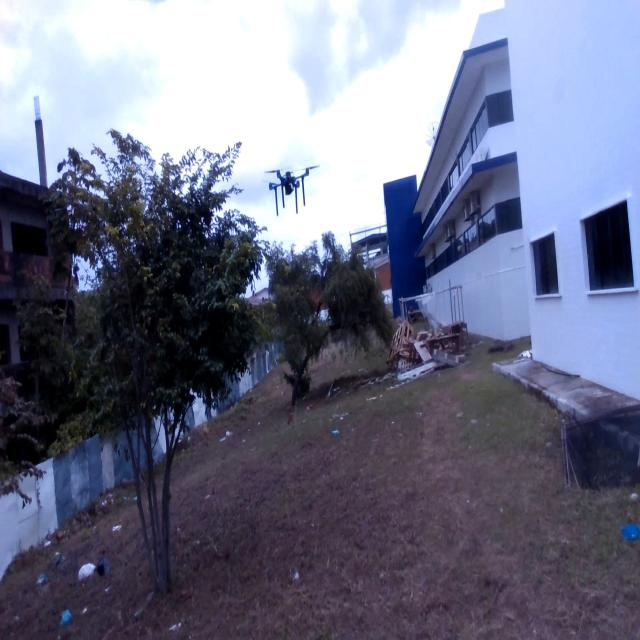-uav-: (252, 151, 328, 221)
